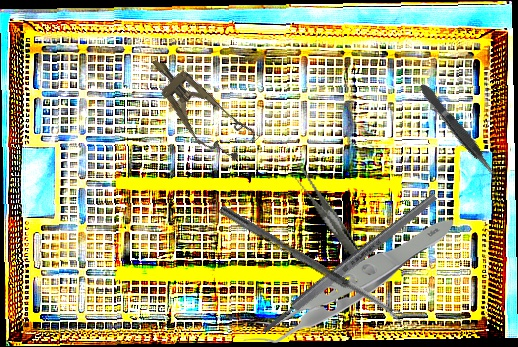Dressing Forceps: (290, 156, 378, 295)
Scalpel Handle: (259, 191, 440, 337)
Speculum: (135, 43, 262, 171)
Surgical Spoon: (217, 204, 406, 324)
Tissue Forceps: (240, 217, 453, 344), (416, 79, 500, 181)
